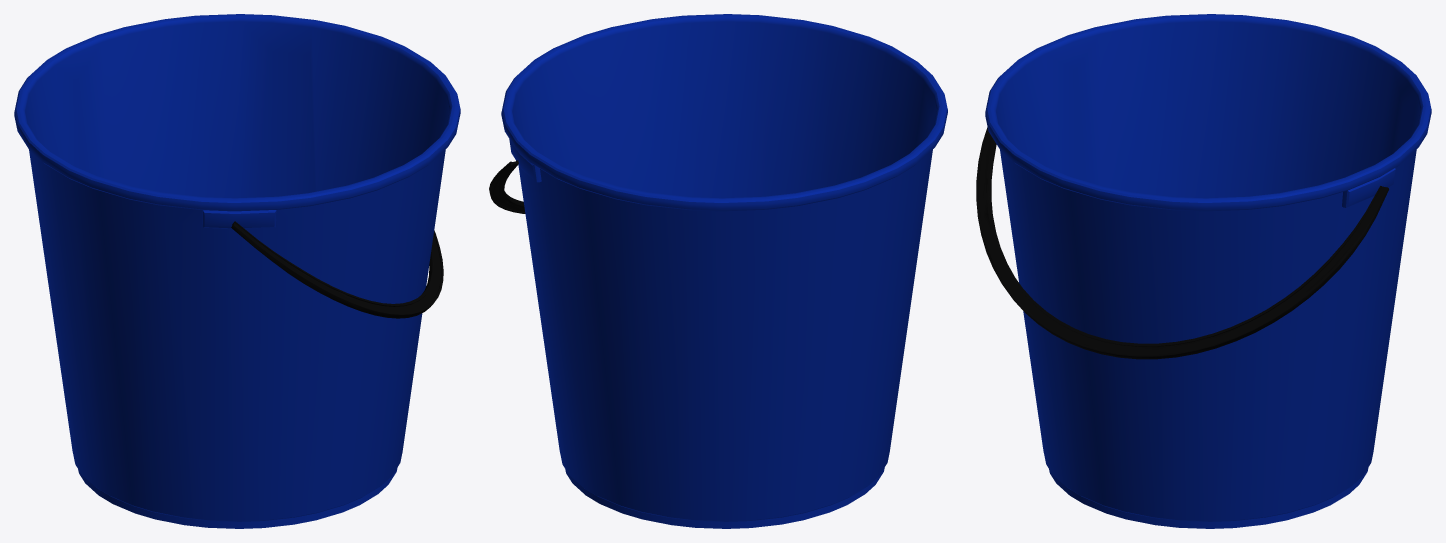
The model's file is pail.FBX.
The picture shows the model from 3 angles, left to right: view 1: azimuth 30°, elevation 25°; view 2: azimuth 150°, elevation 25°; view 3: azimuth 270°, elevation 25°; orthographic projection.
Visible parts, largest first — view 1: pail; view 2: pail; view 3: pail.
Boxes of the visible parts, x1=… form: pail: x1=14, y1=14, x2=460, y2=528; pail: x1=489, y1=14, x2=947, y2=528; pail: x1=976, y1=14, x2=1431, y2=528.
Bounding box in the file's own units: 37.96 × 33.19 × 38.71.
